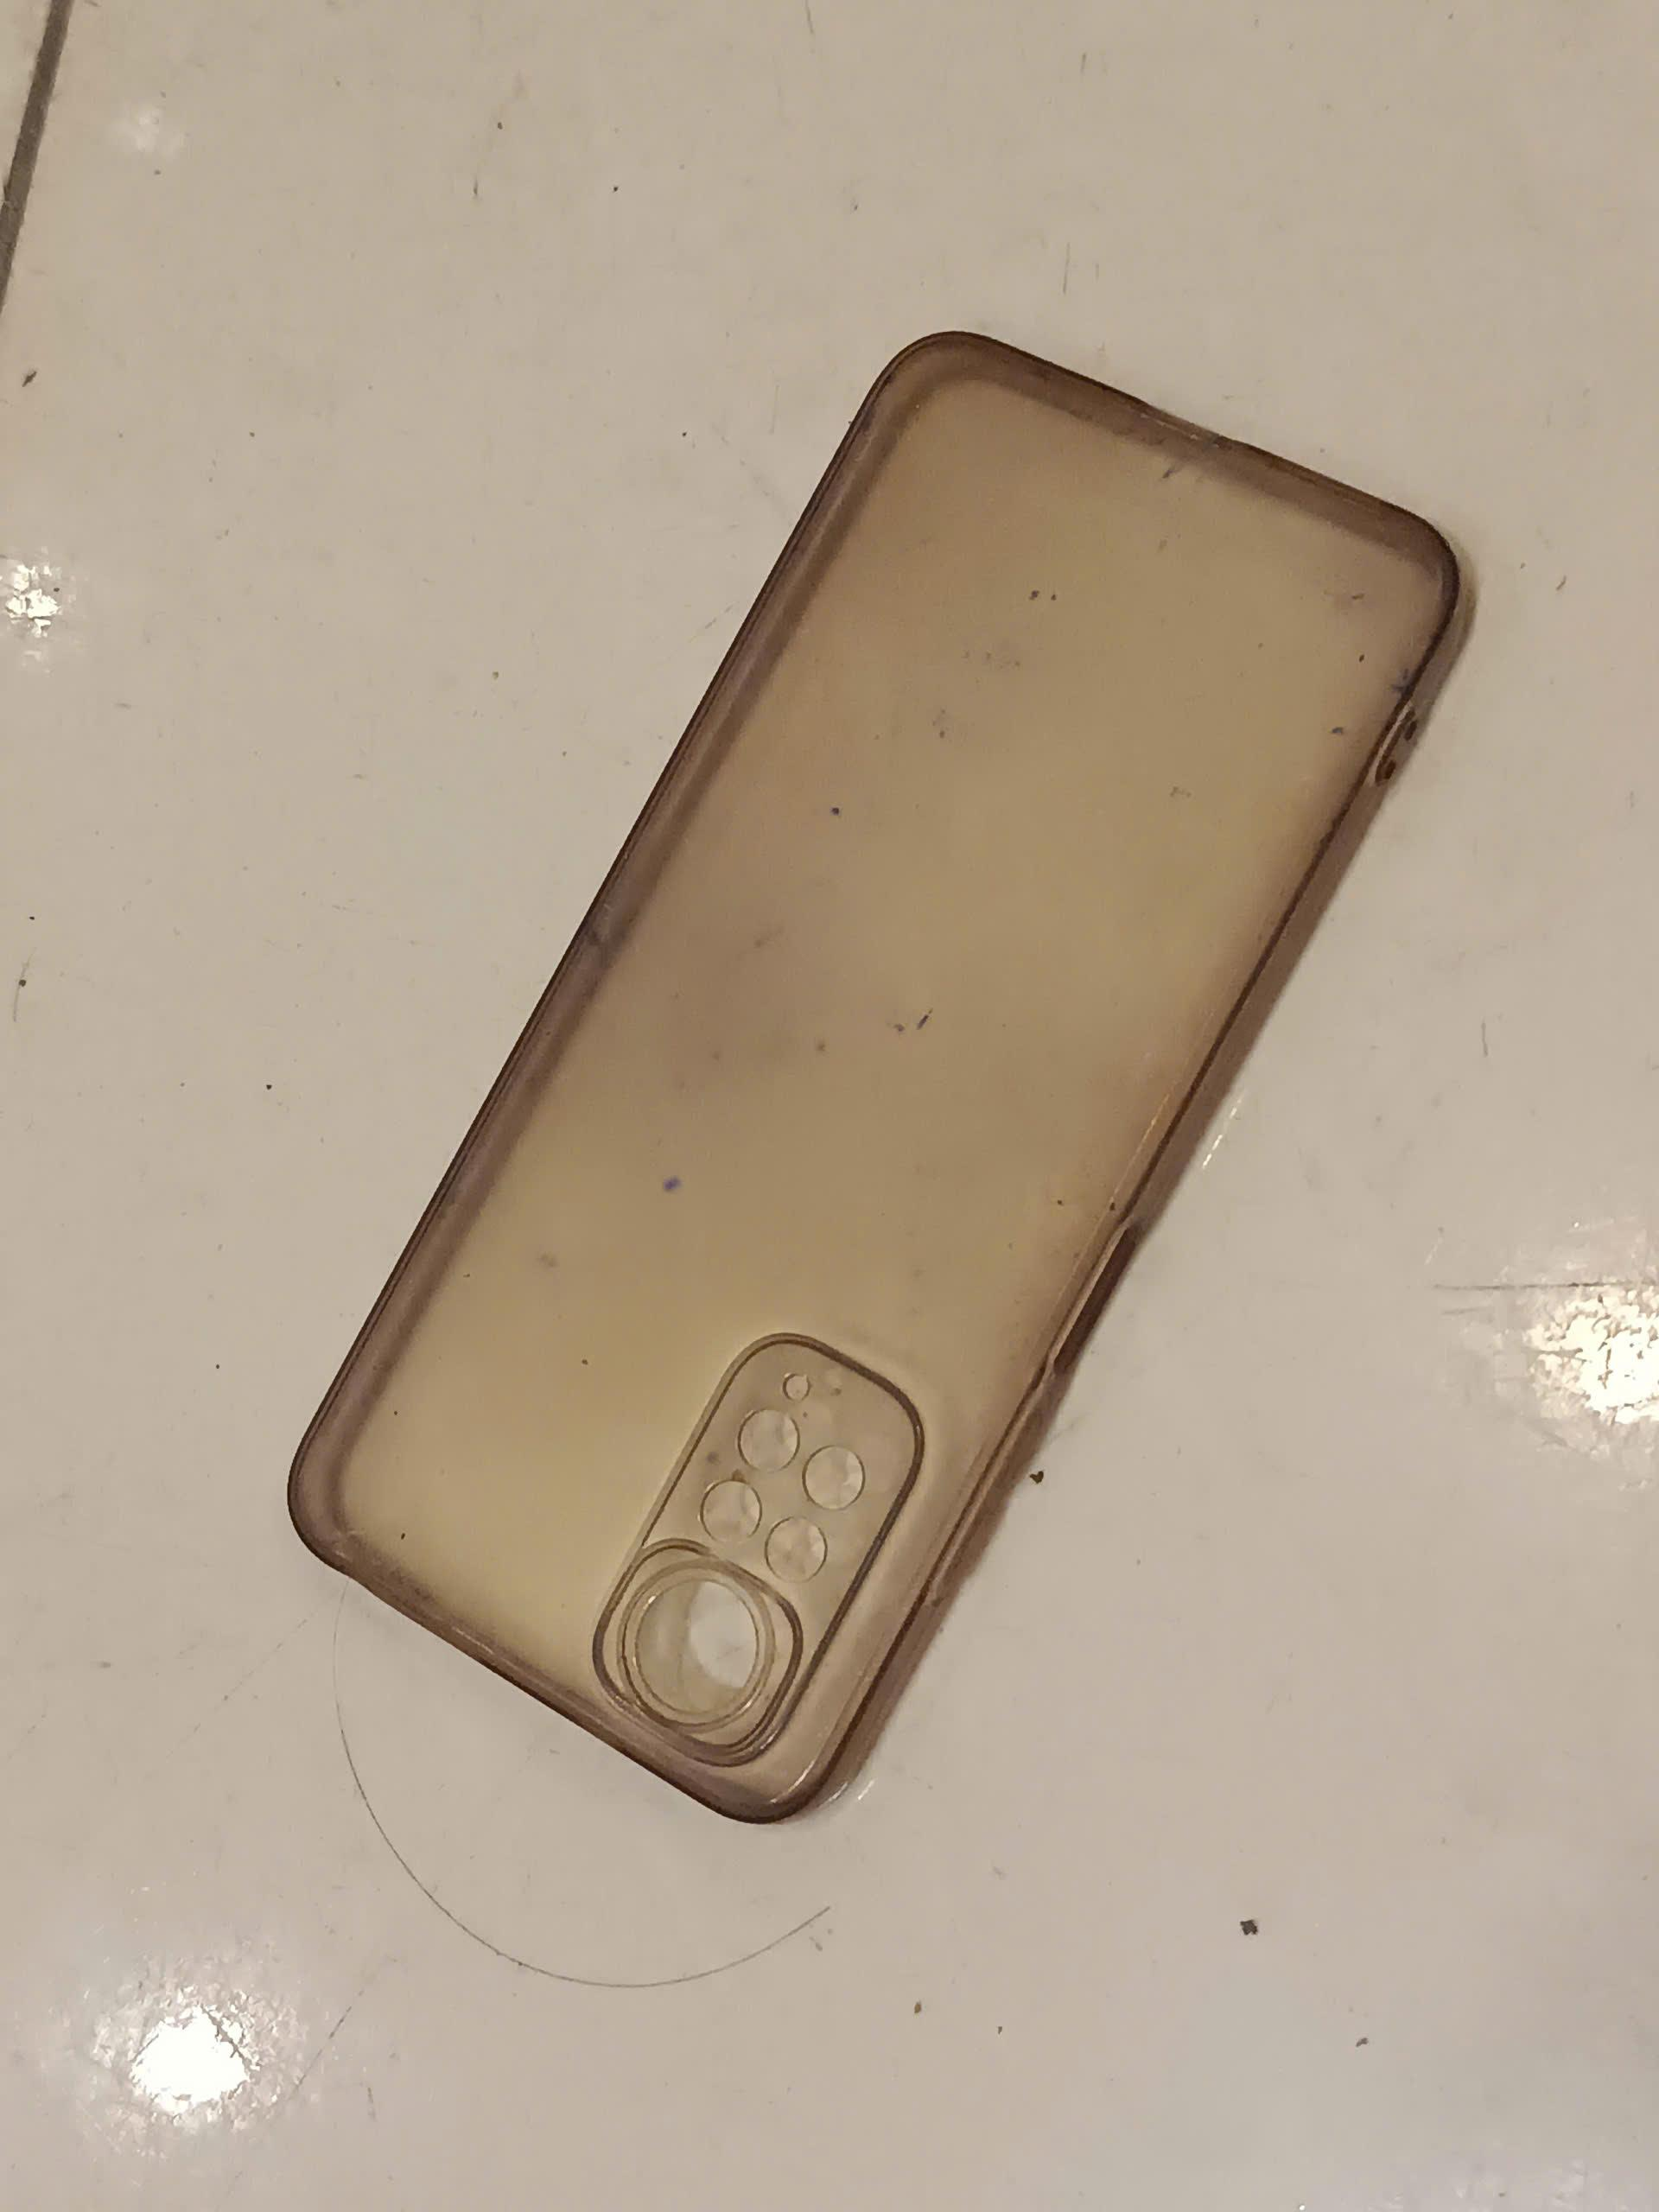Vo co: (289, 326, 1480, 1820)
